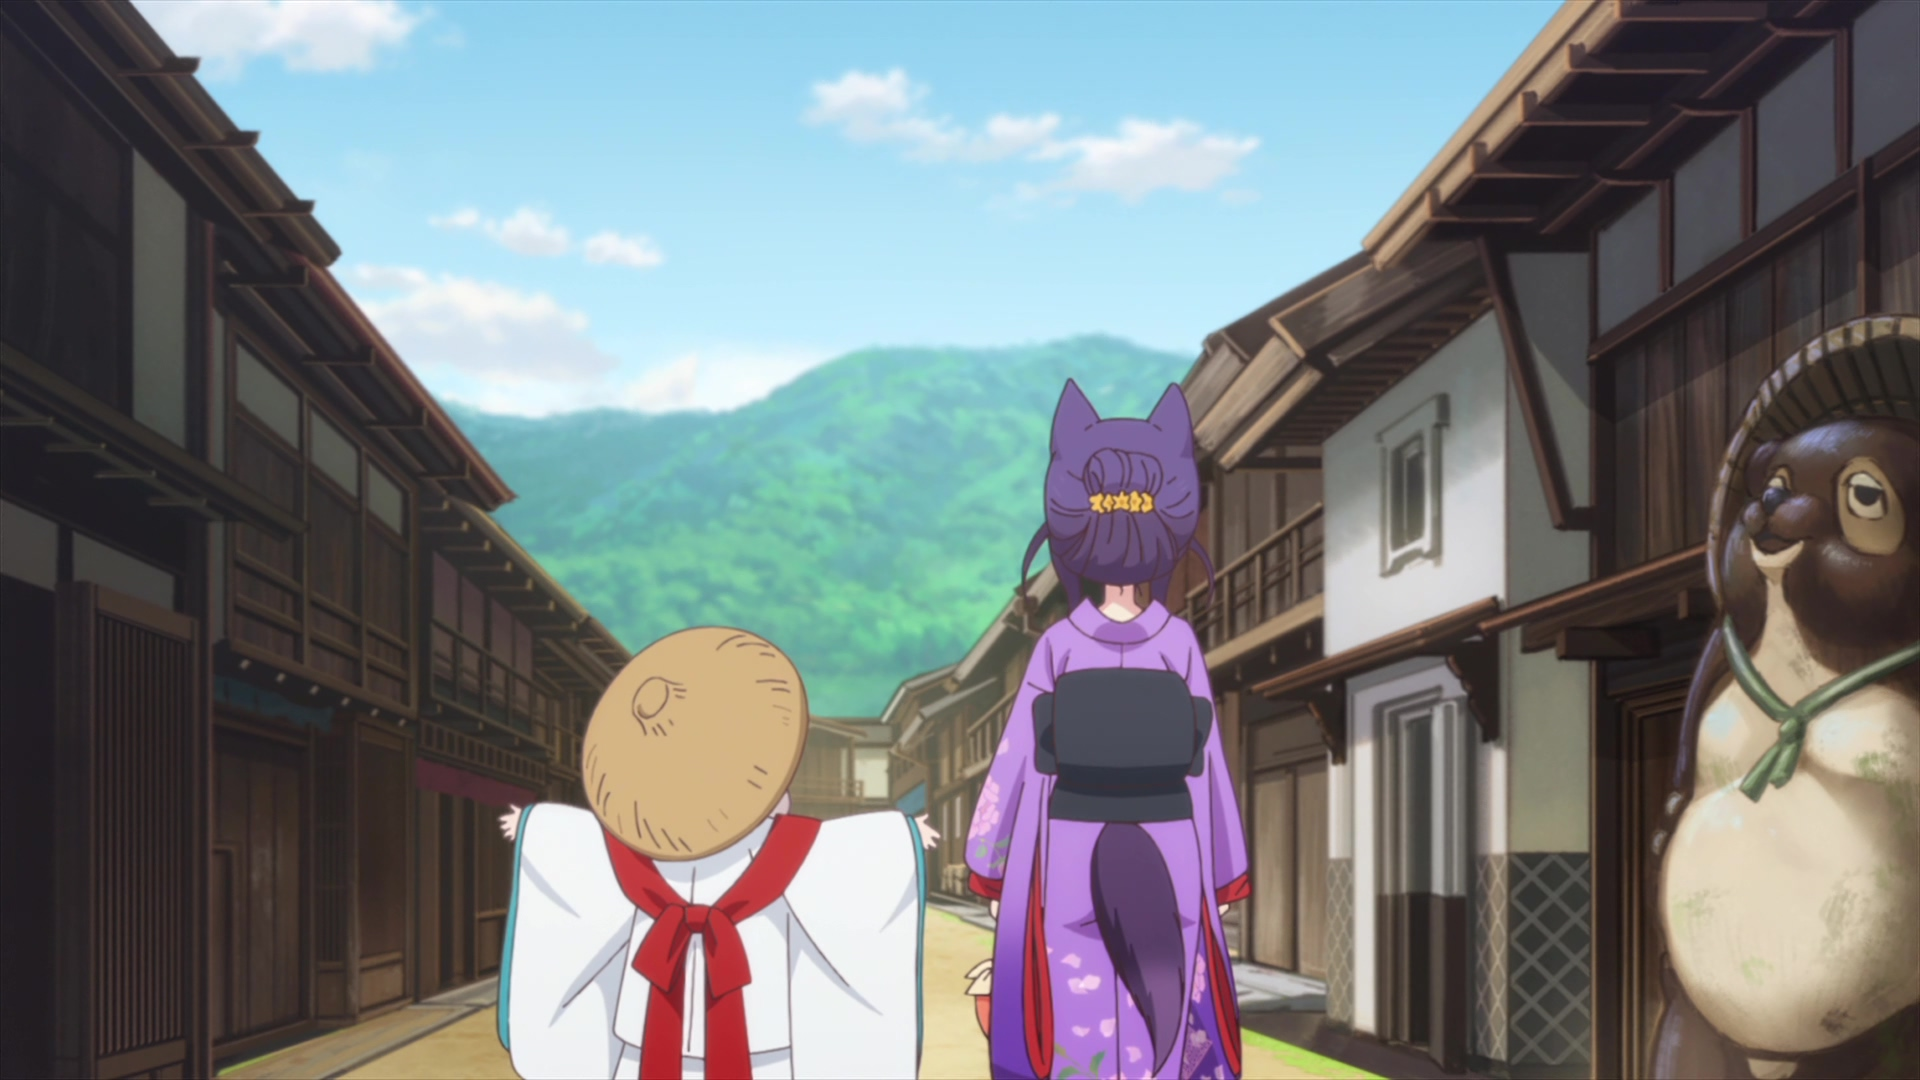其他: (496, 628, 942, 1080)
皋: (967, 378, 1253, 1080)
